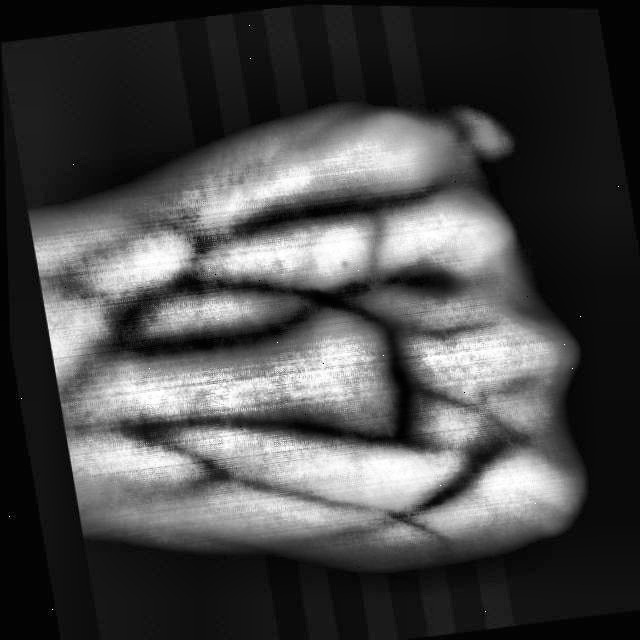Vein: (85, 303, 303, 380)
